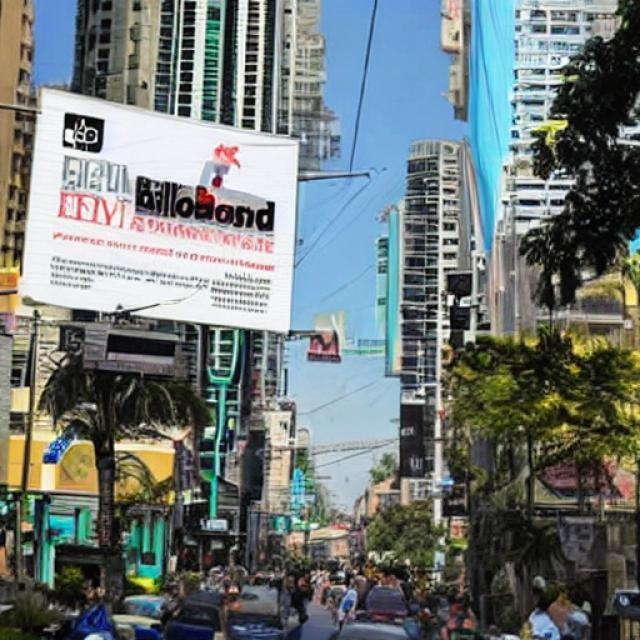Billboard: (16, 86, 303, 336)
